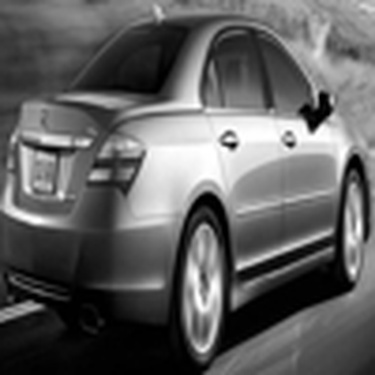car: (5, 5, 373, 336)
